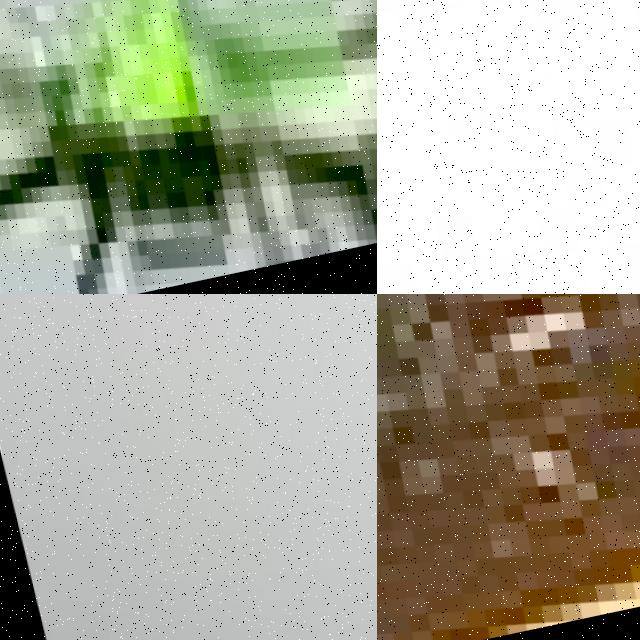drone: (0, 294, 377, 640), (0, 0, 377, 294), (377, 294, 640, 640), (377, 0, 640, 294)
